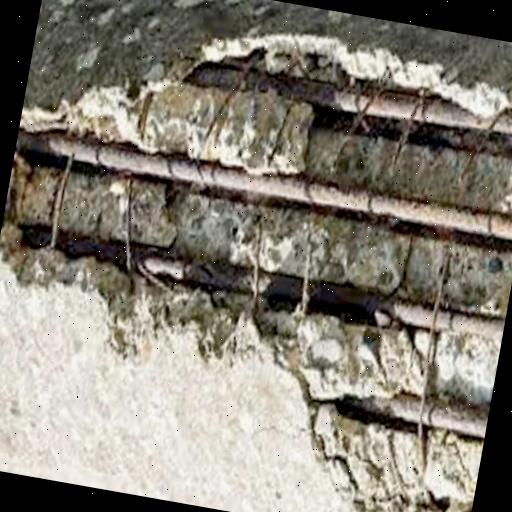spalling: (8, 20, 512, 512)
